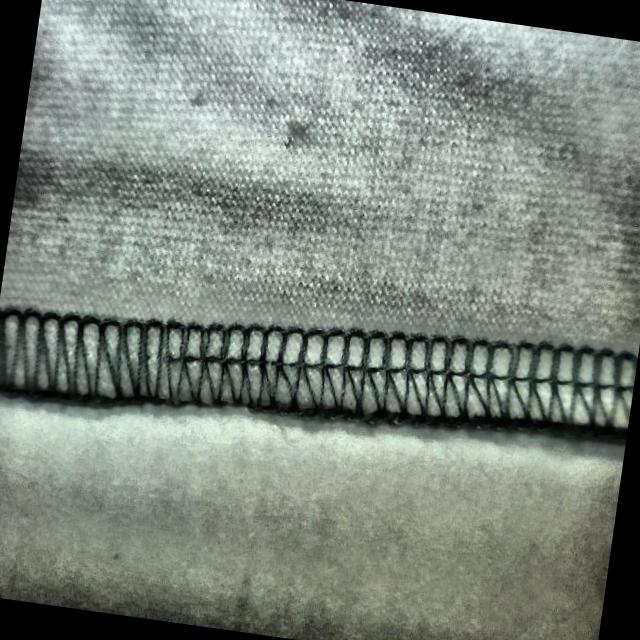gray stitch: (0, 276, 381, 448)
